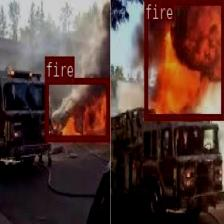fire: (144, 0, 224, 118), (45, 77, 109, 140)
